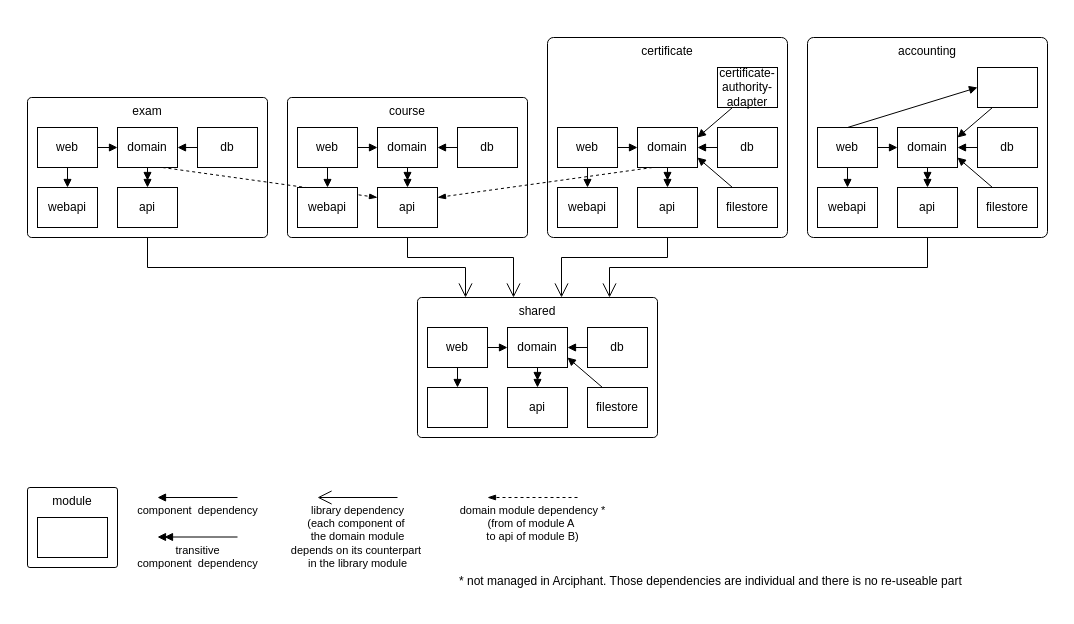
Image size: 1074x624. Some labels were removed from this diagram. The shapes that lost their labels are listed below. From the top down, each one's centre as x and y in pixels, then its label:
At pixel 1007 87: "payment-provider-adapter".
At pixel 457 407: "web-api".
At pixel 72 537: "component".
